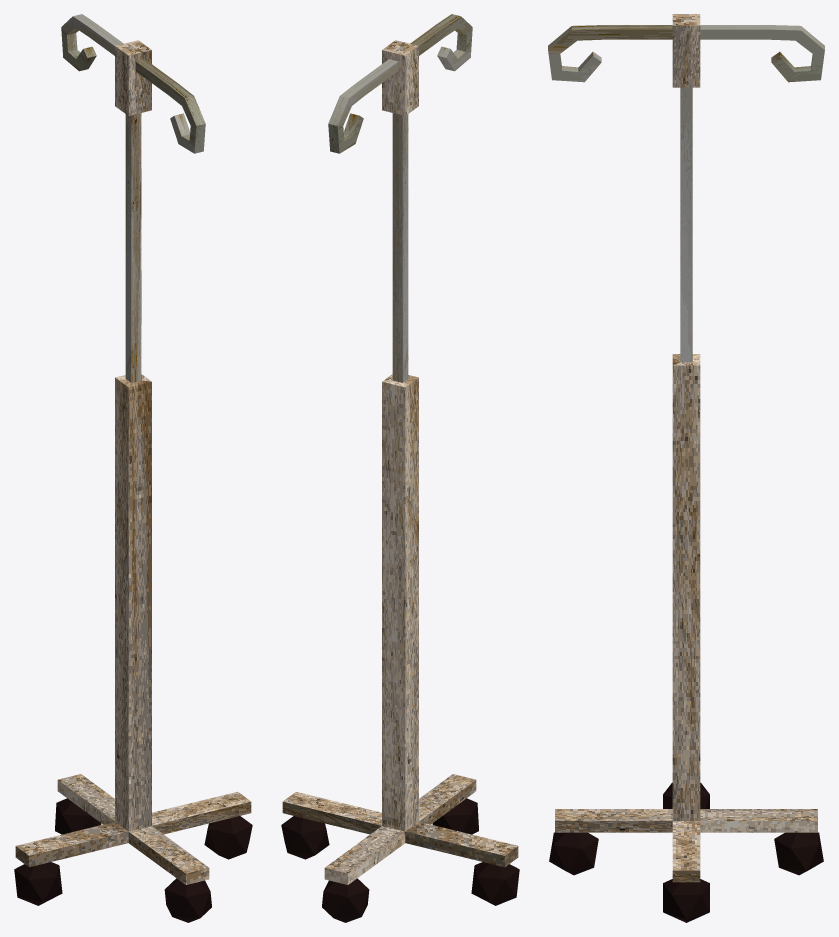
File: iv_pole.glb
3 views of the same model, side by side, from view 1: azimuth 30°, elevation 25°; view 2: azimuth 150°, elevation 25°; view 3: azimuth 270°, elevation 25° (orthographic). The views are drawn at different scales.
Parts seen in each view (by area): view 1: pole, wheel, top bar; view 2: pole, wheel, top bar; view 3: pole, top bar, wheel.
Boxes of the visible parts, box(x1,y1,x2,y2) form: pole: box(15, 40, 251, 884); wheel: box(14, 798, 252, 922); top bar: box(61, 14, 205, 153); pole: box(282, 40, 518, 884); wheel: box(281, 798, 519, 922); top bar: box(328, 14, 472, 153); pole: box(555, 14, 817, 882); top bar: box(548, 25, 824, 82); wheel: box(549, 782, 823, 922).
Size of the model in its own units: 0.4939 by 1.7 by 0.4977.
Materials: 2 (1 with a texture image).
